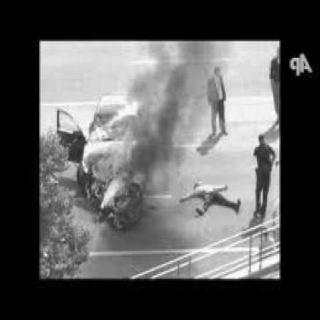Fire: (87, 123, 146, 219)
Smoke: (137, 51, 199, 161)
